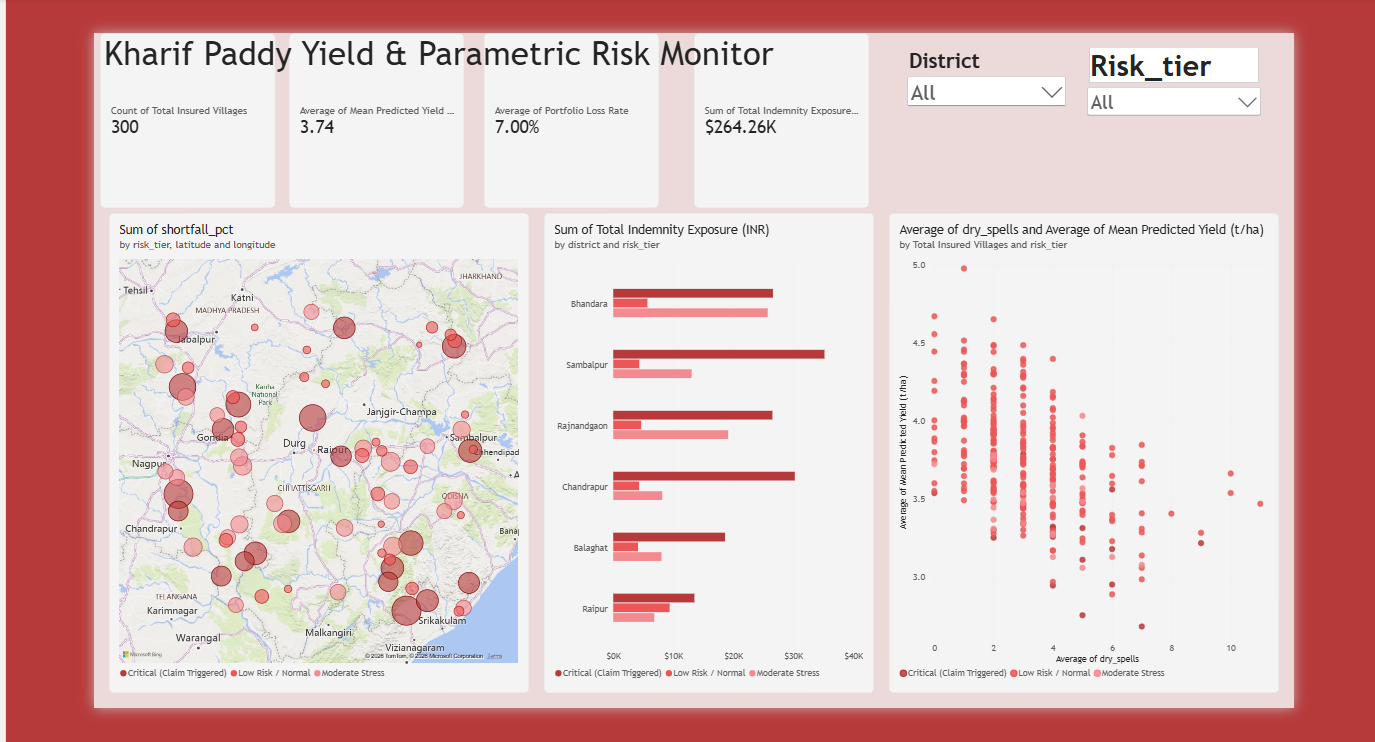

The dashboard page shown, as its layout file describes it:
{"tool":"powerbi","page":{"name":"Page 1","canvas":[1920,1080],"ordinal":0},"visuals":[{"type":"cardVisual","fields":{"Data":["Count(india_paddy_pmfby_powerbi_data.village_id)"]},"box":[10,0,280,280],"z":1000},{"type":"cardVisual","fields":{"Data":["Avg(india_paddy_pmfby_powerbi_data.predicted_yield_tha)"]},"box":[312,0,280,280],"z":2000},{"type":"cardVisual","fields":{"Data":["Avg(india_paddy_pmfby_powerbi_data.claim_triggered)"]},"box":[624,0,280,280],"z":3000},{"type":"cardVisual","fields":{"Data":["Sum(india_paddy_pmfby_powerbi_data.Total Indemnity Exposure (INR))"]},"box":[960,0,280,280],"z":4000},{"type":"map","fields":{"Series":["india_paddy_pmfby_powerbi_data.risk_tier"],"Size":["Sum(india_paddy_pmfby_powerbi_data.shortfall_pct)"],"X":["india_paddy_pmfby_powerbi_data.longitude"],"Y":["india_paddy_pmfby_powerbi_data.latitude"]},"box":[24,288,672,768],"z":5000},{"type":"clusteredBarChart","fields":{"Category":["india_paddy_pmfby_powerbi_data.district"],"Series":["india_paddy_pmfby_powerbi_data.risk_tier"],"Y":["Sum(india_paddy_pmfby_powerbi_data.Total Indemnity Exposure (INR))"]},"box":[720,288,528,768],"z":6000},{"type":"scatterChart","fields":{"Category":["india_paddy_pmfby_powerbi_data.Total Insured Villages"],"Series":["india_paddy_pmfby_powerbi_data.risk_tier"],"X":["Avg(india_paddy_pmfby_powerbi_data.dry_spells)"],"Y":["Avg(india_paddy_pmfby_powerbi_data.Mean Predicted Yield (t/ha))"]},"box":[1272,288,624,768],"z":7000},{"type":"slicer","fields":{"Values":["india_paddy_pmfby_powerbi_data.district"]},"box":[1296,24,264,264],"z":8000},{"type":"slicer","fields":{"Values":["india_paddy_pmfby_powerbi_data.risk_tier"]},"box":[1584,24,288,216],"z":9000},{"type":"textbox","box":[16,0,1216,80],"z":10000}]}

Visuals, with their boxes on the page's 1920x1080 design canvas (x1, y1, x2, y2). These are canvas units, not pixel positions in the 1375x742 screenshot, which may show the page scaled, cropped or inside an application window:
cardVisual - Count(india_paddy_pmfby_powerbi_data.village_id): left=10, top=0, right=290, bottom=280
cardVisual - Avg(india_paddy_pmfby_powerbi_data.predicted_yield_tha): left=312, top=0, right=592, bottom=280
cardVisual - Avg(india_paddy_pmfby_powerbi_data.claim_triggered): left=624, top=0, right=904, bottom=280
cardVisual - Sum(india_paddy_pmfby_powerbi_data.Total Indemnity Exposure (INR)): left=960, top=0, right=1240, bottom=280
map - india_paddy_pmfby_powerbi_data.risk_tier x Sum(india_paddy_pmfby_powerbi_data.shortfall_pct): left=24, top=288, right=696, bottom=1056
clusteredBarChart - india_paddy_pmfby_powerbi_data.district x india_paddy_pmfby_powerbi_data.risk_tier: left=720, top=288, right=1248, bottom=1056
scatterChart - india_paddy_pmfby_powerbi_data.Total Insured Villages x india_paddy_pmfby_powerbi_data.risk_tier: left=1272, top=288, right=1896, bottom=1056
slicer - india_paddy_pmfby_powerbi_data.district: left=1296, top=24, right=1560, bottom=288
slicer - india_paddy_pmfby_powerbi_data.risk_tier: left=1584, top=24, right=1872, bottom=240
textbox: left=16, top=0, right=1232, bottom=80
